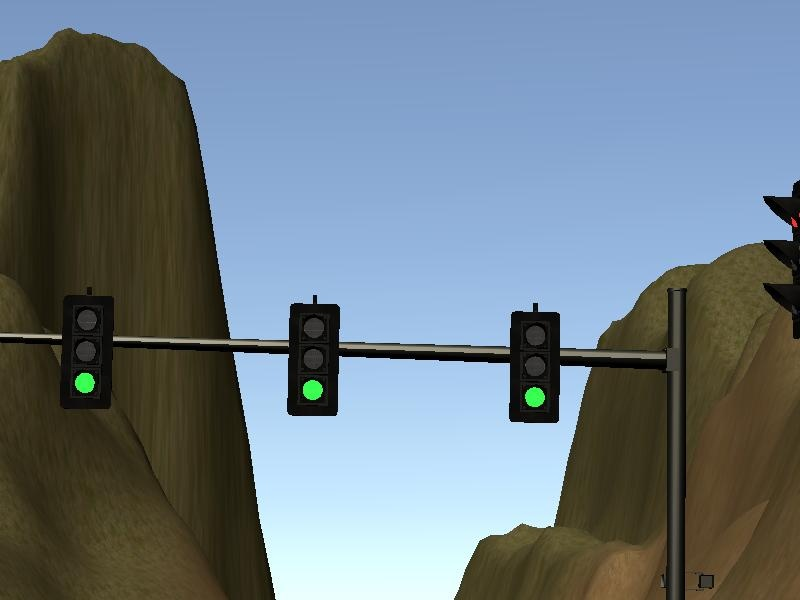traffic_light_green: (45, 280, 665, 425)
